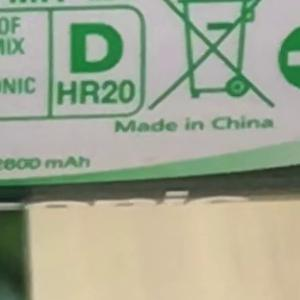HR20: (49, 71, 139, 113)
